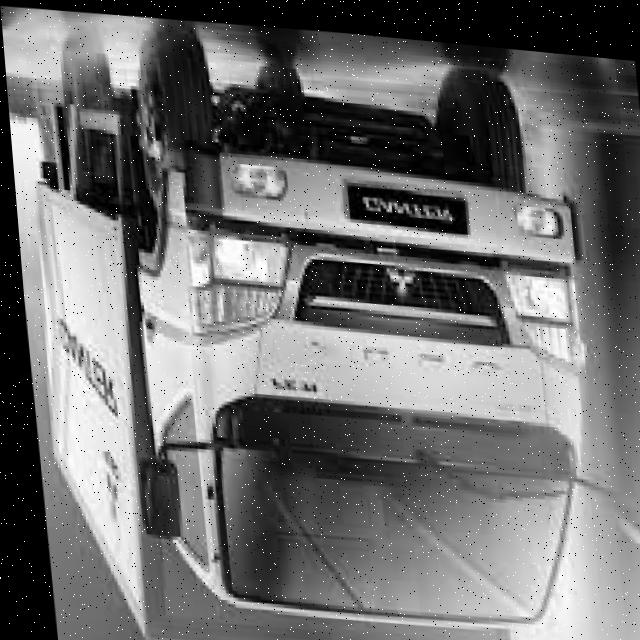truck: (64, 47, 640, 640)
